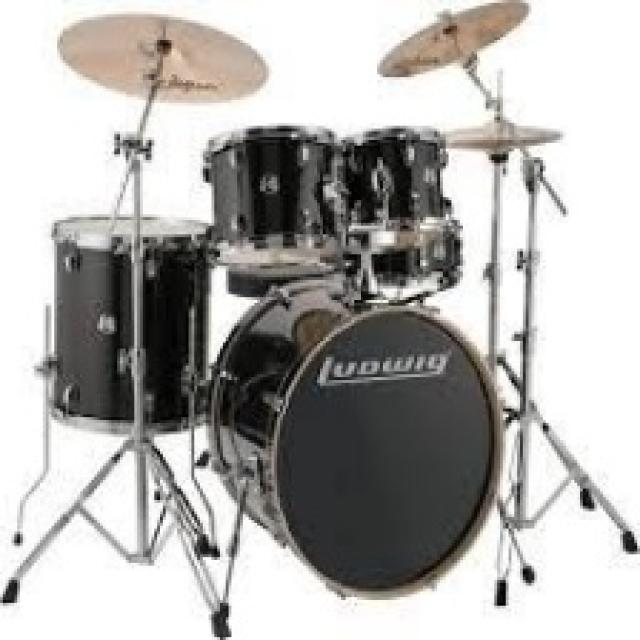drums: (10, 1, 635, 606)
